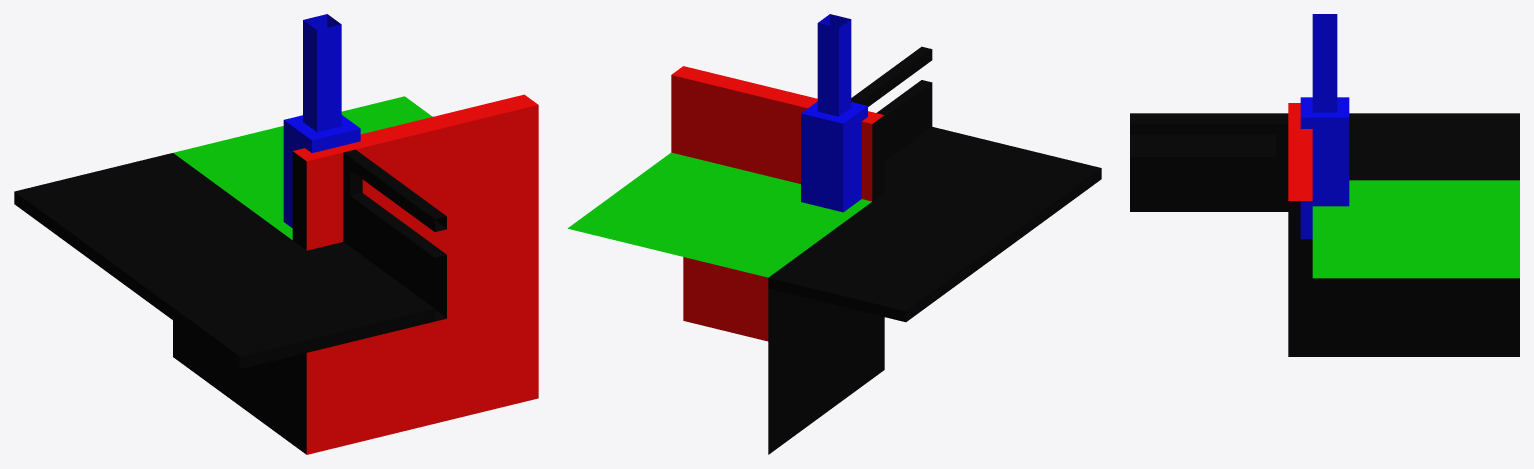
File: None_W_E_E_E_P_P_E_E_BigStrut.fbx
3 renders of one model, left to right at view 1: azimuth 30°, elevation 25°; view 2: azimuth 150°, elevation 25°; view 3: azimuth 270°, elevation 25°, orthographic. The views are drawn at different scales.
Parts seen in each view (by area): view 1: None_W_E_E_E_P_P_E_E_BigStrut; view 2: None_W_E_E_E_P_P_E_E_BigStrut; view 3: None_W_E_E_E_P_P_E_E_BigStrut.
Boxes of the visible parts, x1,y1,x2,y2 form: None_W_E_E_E_P_P_E_E_BigStrut: [14, 14, 538, 454]; None_W_E_E_E_P_P_E_E_BigStrut: [567, 14, 1101, 454]; None_W_E_E_E_P_P_E_E_BigStrut: [1130, 14, 1519, 356].
Size of the model in its own units: 100 by 100 by 100.
